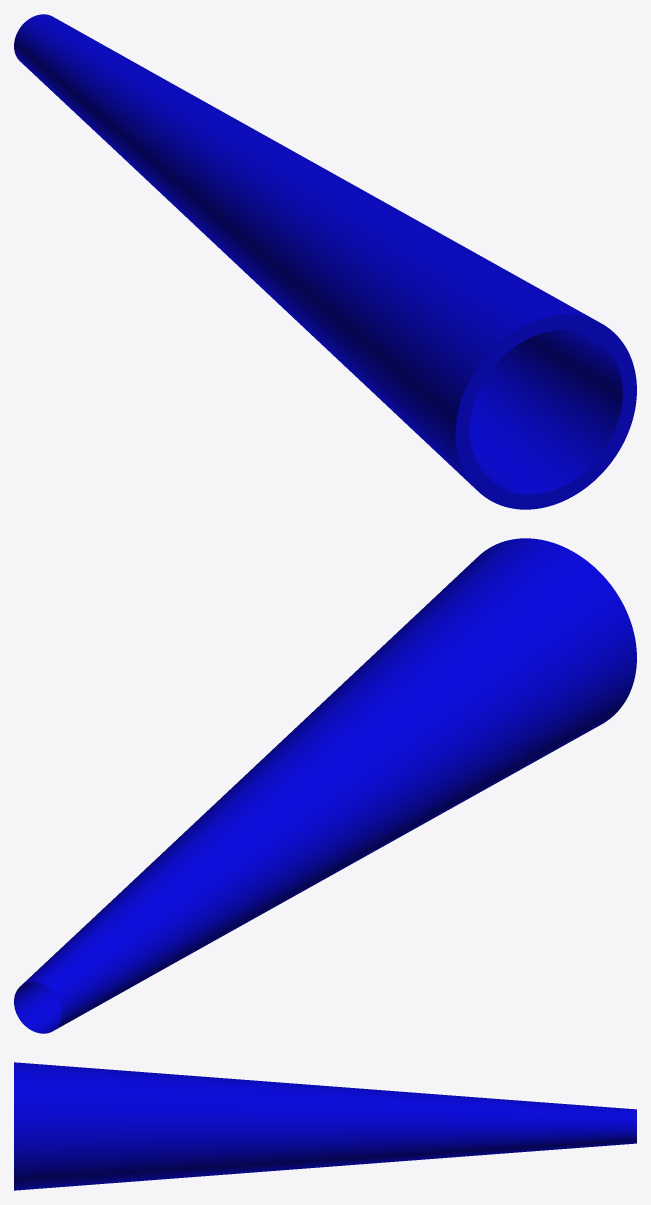
Rendered from NozzleBCH_right.gltf.
The picture shows the model from 3 angles, top to bottom: view 1: azimuth 30°, elevation 25°; view 2: azimuth 150°, elevation 25°; view 3: azimuth 270°, elevation 25°; orthographic projection. The views are drawn at different scales.
Visible parts, largest first — view 1: NozzleBCH_right; view 2: NozzleBCH_right; view 3: NozzleBCH_right.
Boxes of the visible parts, bbox=[...] form: NozzleBCH_right: bbox=[14, 14, 636, 509]; NozzleBCH_right: bbox=[14, 538, 636, 1033]; NozzleBCH_right: bbox=[14, 1062, 636, 1190].
Bounding box in the file's own units: 1020 × 1020 × 4950.
